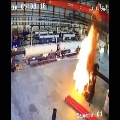fire: (73, 25, 93, 95)
